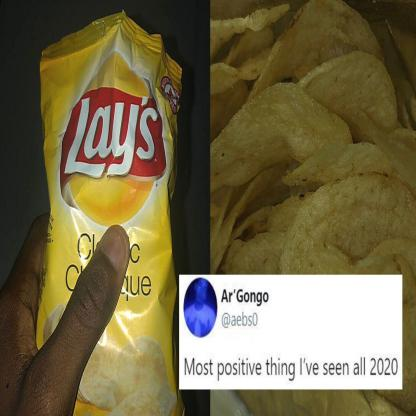potatochip: (34, 7, 197, 415)
